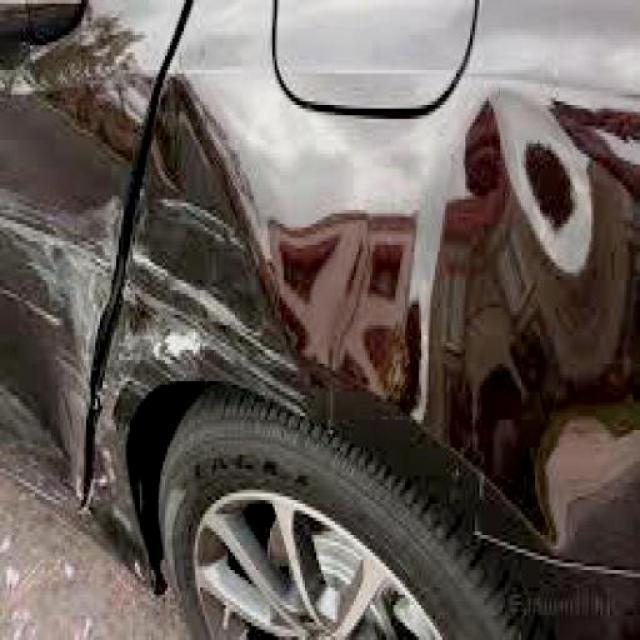car damage: (3, 62, 319, 603)
